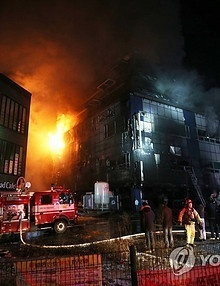fire: (45, 113, 74, 153)
